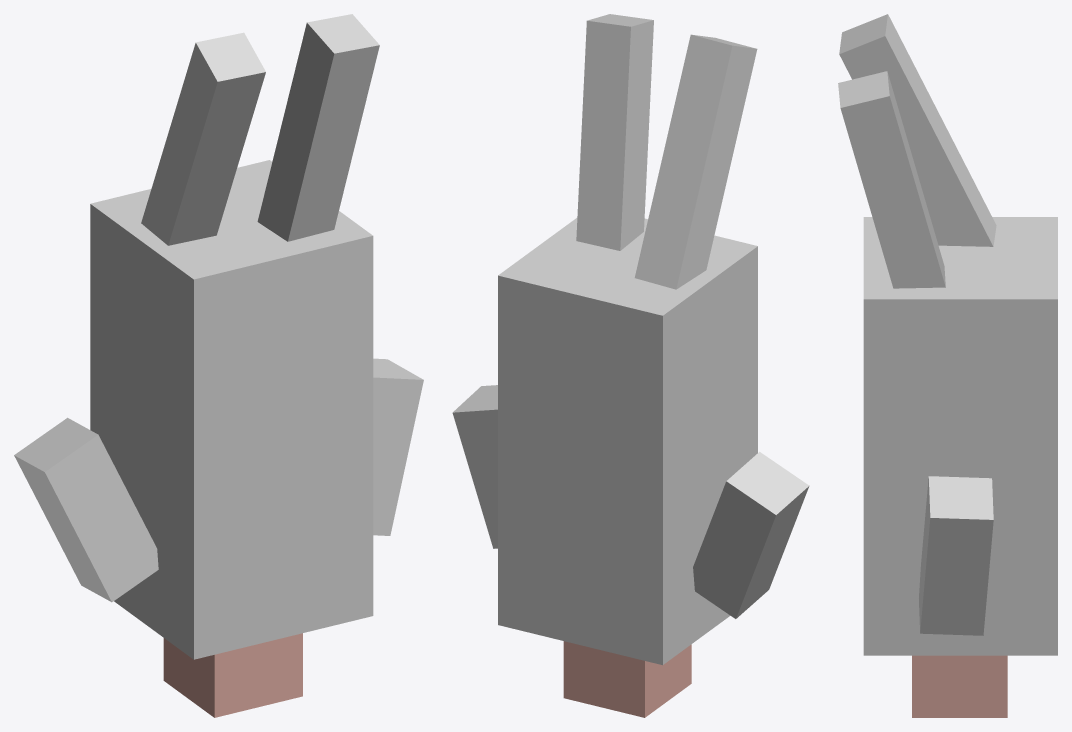
The picture shows the model from 3 angles, left to right: view 1: azimuth 30°, elevation 25°; view 2: azimuth 150°, elevation 25°; view 3: azimuth 270°, elevation 25°; orthographic projection. The views are drawn at different scales.
Parts seen in each view (by area): view 1: Cube.002, Cube.004, Cube.005, Cube.003, Cube.001, Cube.006; view 2: Cube.002, Cube.005, Cube.004, Cube.003, Cube.001, Cube.006; view 3: Cube.002, Cube.004, Cube.005, Cube.006, Cube.001.
Part boxes in pixels (box(x1,y1,x2,y2)): Cube.002: box(90, 160, 373, 659); Cube.004: box(257, 14, 379, 241); Cube.005: box(141, 32, 265, 245); Cube.003: box(14, 417, 158, 602); Cube.001: box(163, 633, 302, 717); Cube.006: box(373, 358, 423, 535); Cube.002: box(498, 218, 757, 665); Cube.005: box(634, 34, 757, 289); Cube.004: box(576, 14, 653, 250); Cube.003: box(693, 451, 809, 618); Cube.001: box(563, 641, 691, 717); Cube.006: box(452, 385, 497, 548); Cube.002: box(863, 217, 1057, 655); Cube.004: box(838, 71, 945, 288); Cube.005: box(839, 14, 996, 246); Cube.006: box(919, 476, 993, 635); Cube.001: box(912, 655, 1007, 717).
Size of the model in its own units: 7.19 by 12.92 by 3.97.
